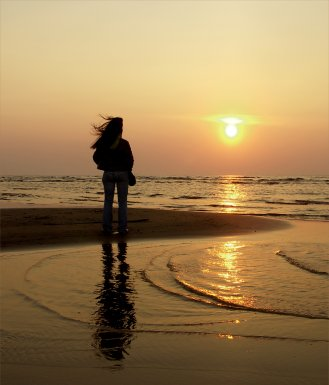Person: (88, 114, 141, 258)
